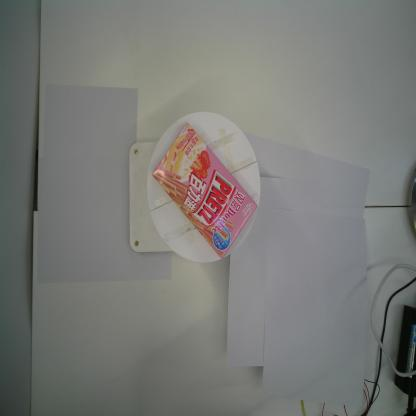Dessert: (151, 122, 258, 259)
